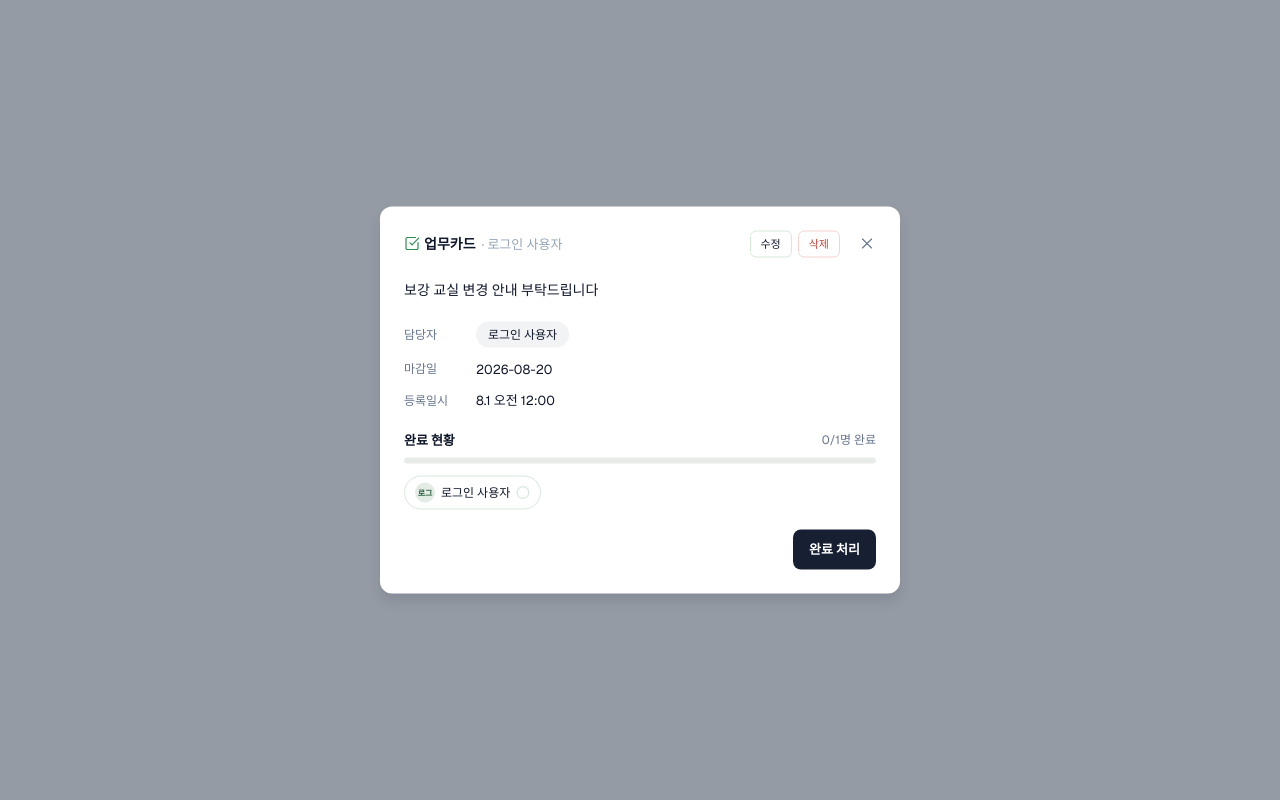
TaskDetailModal › 수정 버튼을 클릭하면 업무카드 수정 모달로 전환된다
The width and height of the screenshot is (1280, 800).
Step 1. Click the button "수정" → (771, 244), box [750,230,792,257]
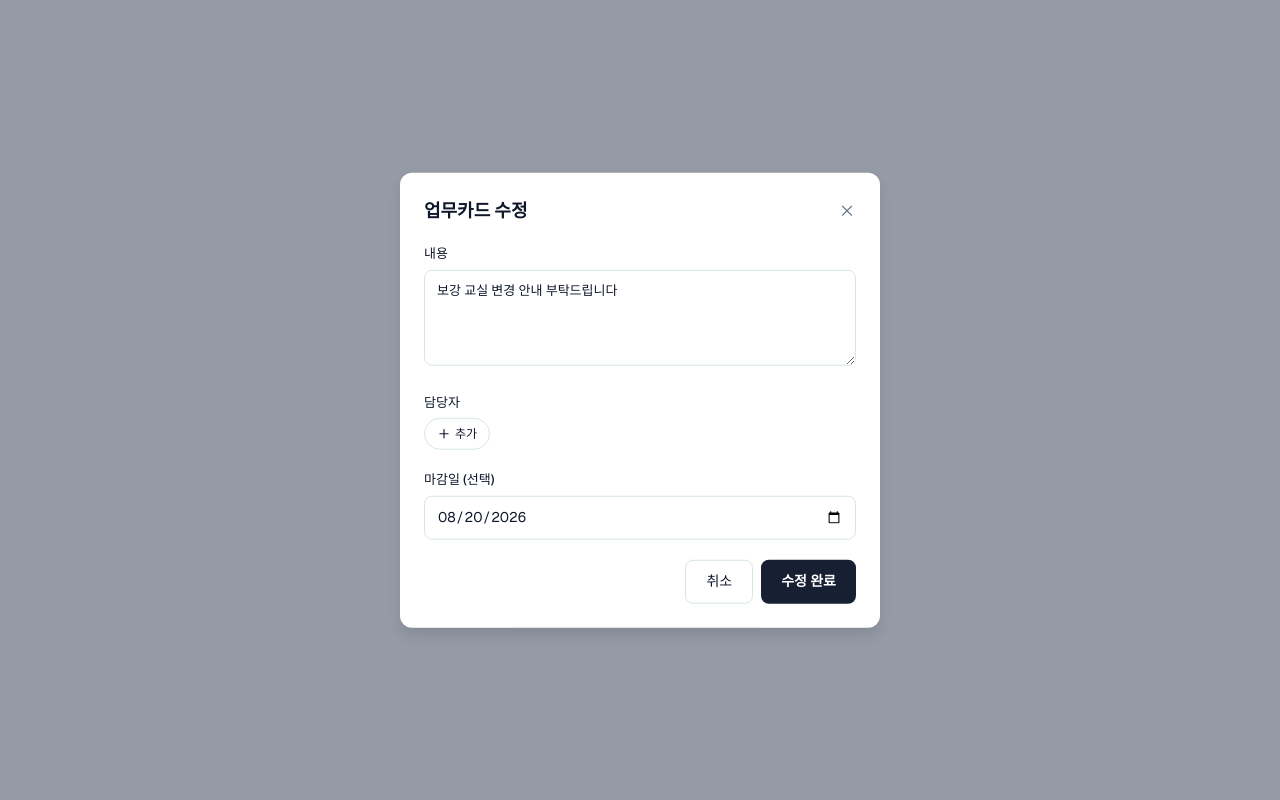
Result: the heading "업무카드 수정" is shown at [424,197,528,224]
